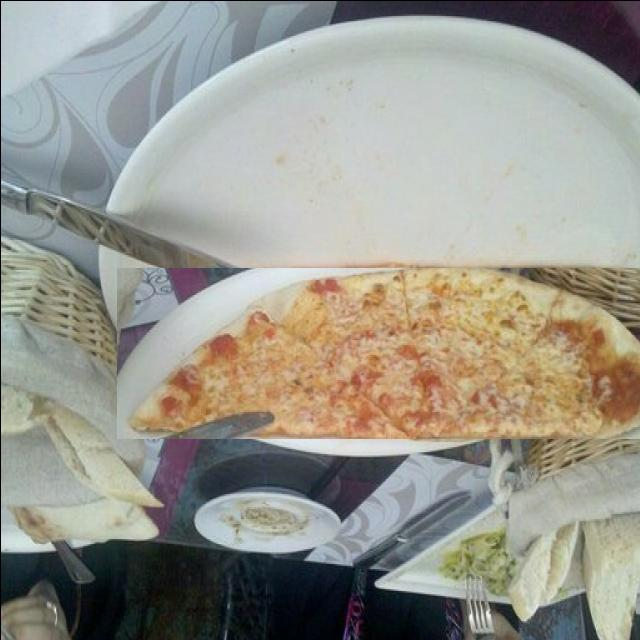pizza: (116, 267, 640, 438)
